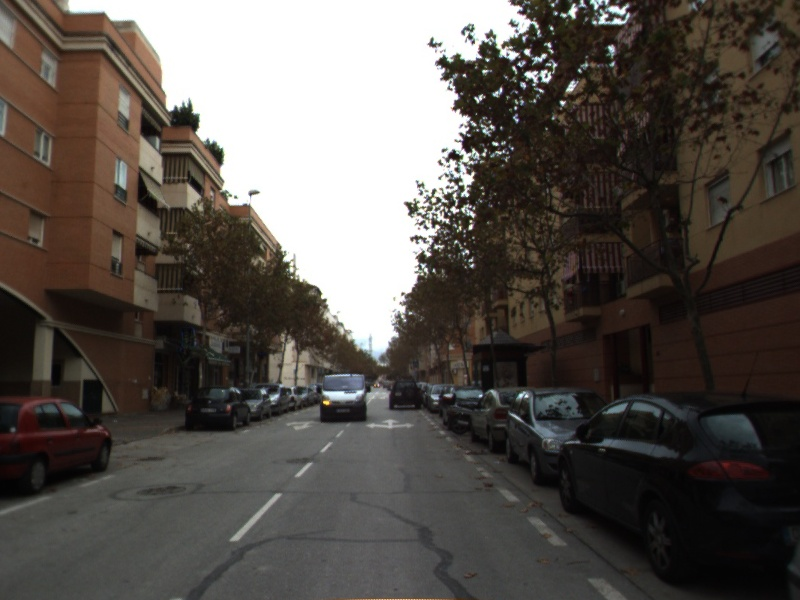STRAIGHT_LEFT_RIGHT: (364, 416, 417, 431)
